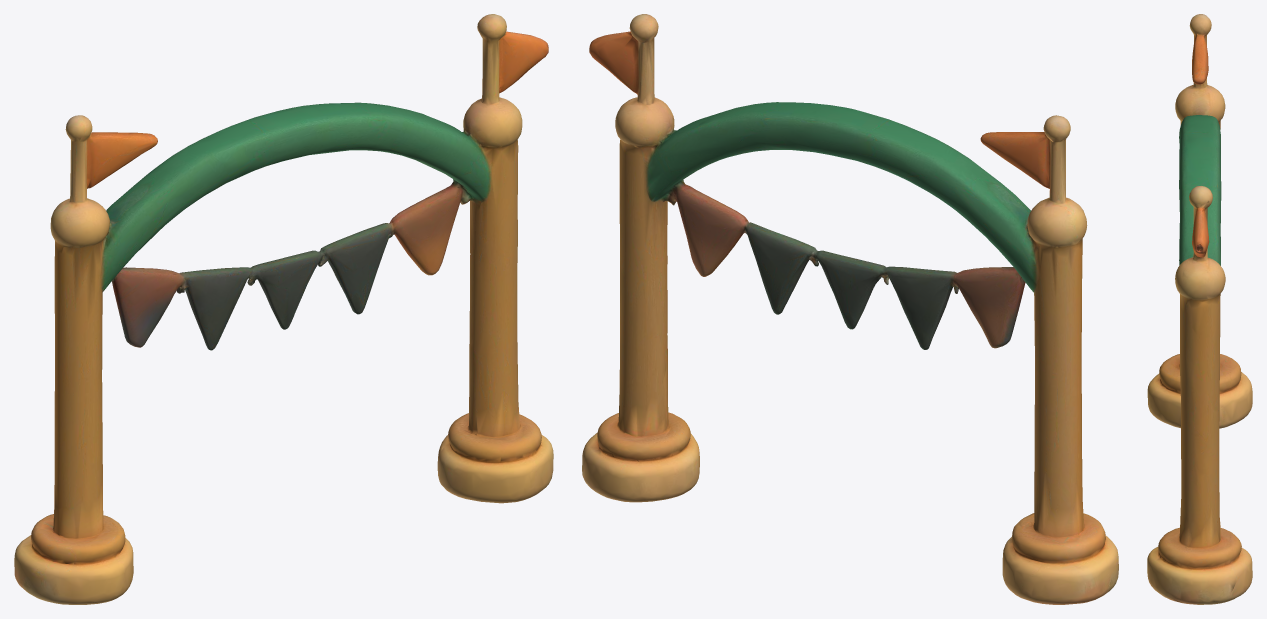
The model's file is gate-start.glb.
3 renders of one model, left to right at view 1: azimuth 30°, elevation 25°; view 2: azimuth 150°, elevation 25°; view 3: azimuth 270°, elevation 25°, orthographic. The views are drawn at different scales.
Visible parts, largest first — view 1: Mesh_0; view 2: Mesh_0; view 3: Mesh_0.
Boxes of the visible parts, box(x1,y1,x2,y2) form: Mesh_0: box(14, 14, 553, 604); Mesh_0: box(582, 14, 1118, 604); Mesh_0: box(1147, 14, 1252, 604).
Bounding box in the file's own units: 2 × 1.72 × 0.4114.
1 material, 1 textured.
